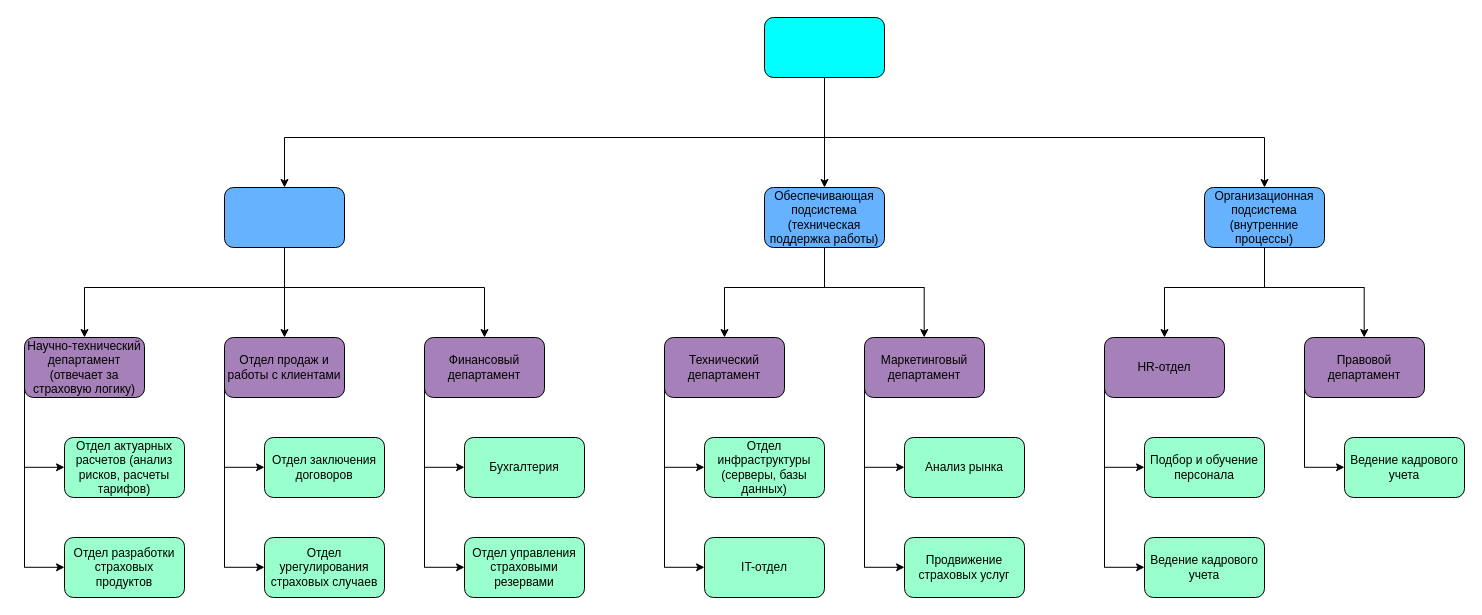
This 1482x615 diagram has some shape labels left out. The centre of each missing label's shape, as x and y in pixels:
СЕО: the point at 824,47
Функциональная подсистема (ядро бизнес-процессов): the point at 284,217
